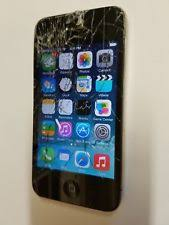iphone: (31, 4, 126, 215)
iphone4: (32, 5, 127, 216)
